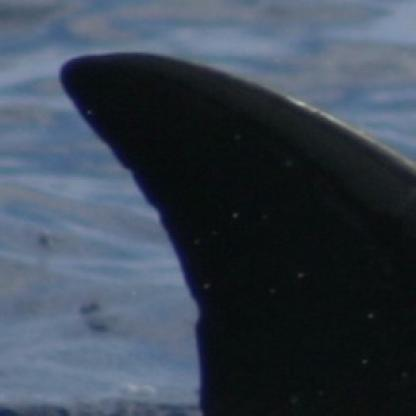dolphin-whale: (48, 50, 414, 415)
